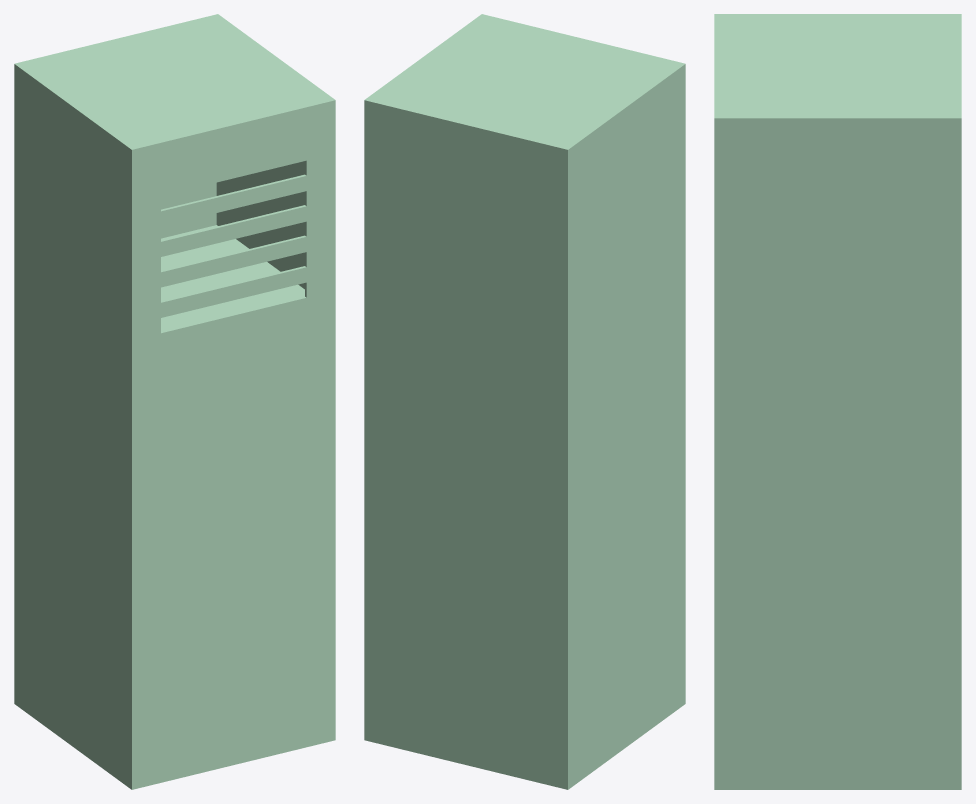
The model's file is Locker_1.fbx.
The picture shows the model from 3 angles, left to right: view 1: azimuth 30°, elevation 25°; view 2: azimuth 150°, elevation 25°; view 3: azimuth 270°, elevation 25°; orthographic projection. The views are drawn at different scales.
Parts seen in each view (by area): view 1: Cube.002, Cube.004; view 2: Cube.002; view 3: Cube.002.
Part boxes in pixels (box(x1,y1,x2,y2)): Cube.002: box(14, 14, 335, 789); Cube.004: box(144, 116, 323, 773); Cube.002: box(364, 14, 685, 789); Cube.002: box(714, 14, 961, 789).
Bounding box in the file's own units: 140 × 420 × 140.
